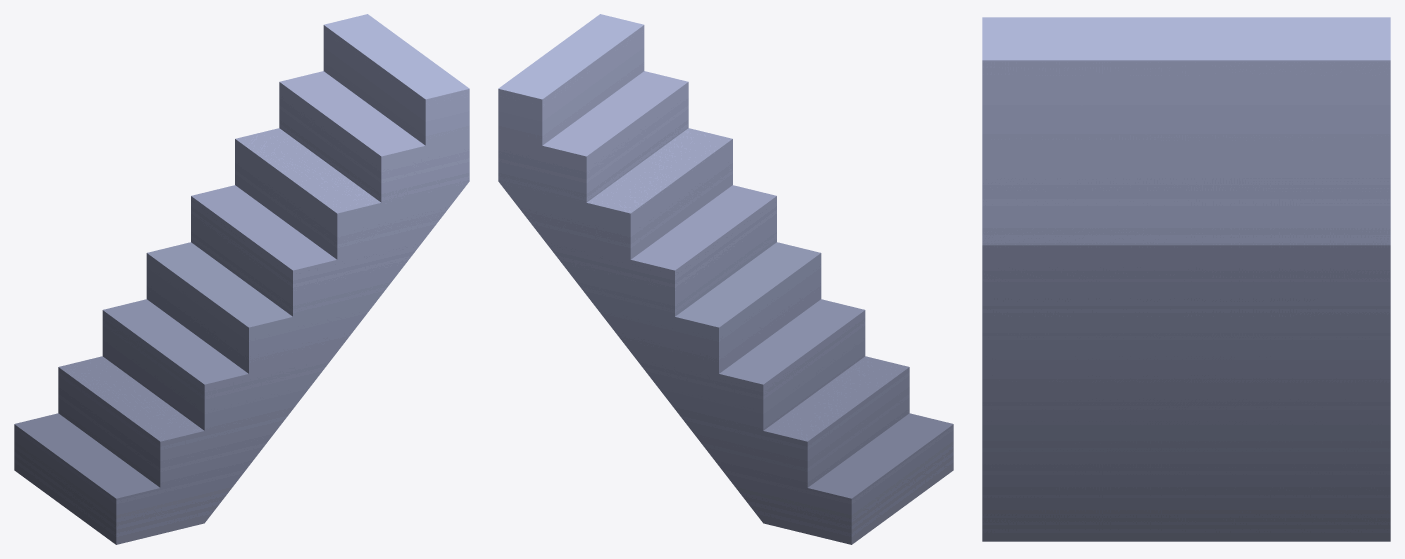
Rendered from stairs-diagonal-small-narrow.glb.
3 views of the same model, side by side, from view 1: azimuth 30°, elevation 25°; view 2: azimuth 150°, elevation 25°; view 3: azimuth 270°, elevation 25° (orthographic). The views are drawn at different scales.
Parts seen in each view (by area): view 1: stairs-diagonal-small-narrow; view 2: stairs-diagonal-small-narrow; view 3: stairs-diagonal-small-narrow.
Boxes of the visible parts, left/top/right/bottom form: stairs-diagonal-small-narrow: left=14, top=14, right=469, bottom=544; stairs-diagonal-small-narrow: left=498, top=14, right=953, bottom=544; stairs-diagonal-small-narrow: left=982, top=17, right=1390, bottom=541.
Bounding box in the file's own units: 1 × 1 × 0.5.
Materials: 1 (1 with a texture image).
